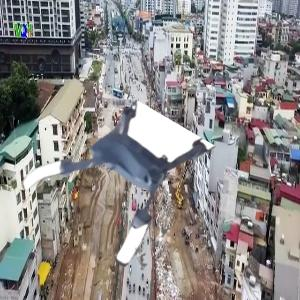drone: (30, 97, 190, 257)
